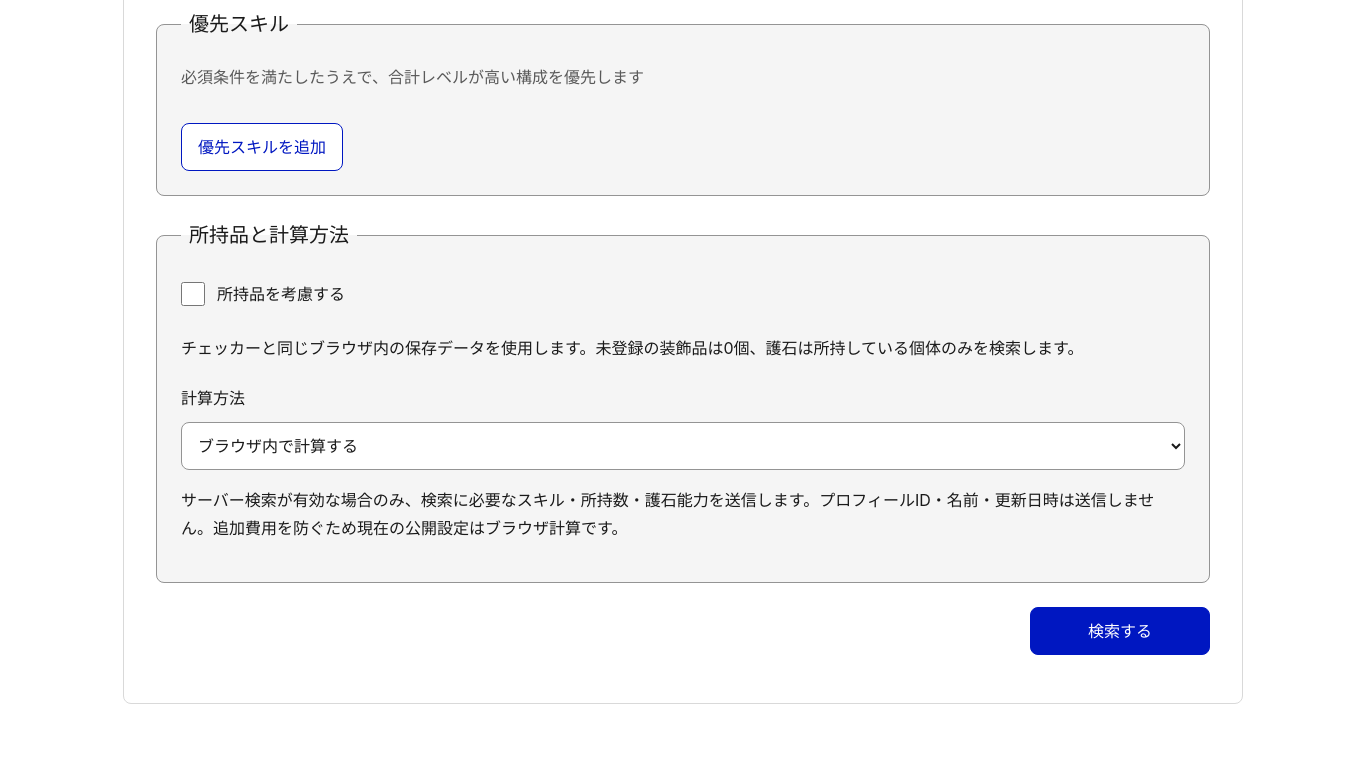
Test: search states and results › clears previous results and reports a search error
(page scrolled)
Click the button "検索する" at (1120, 631), box [1030,607,1210,655]
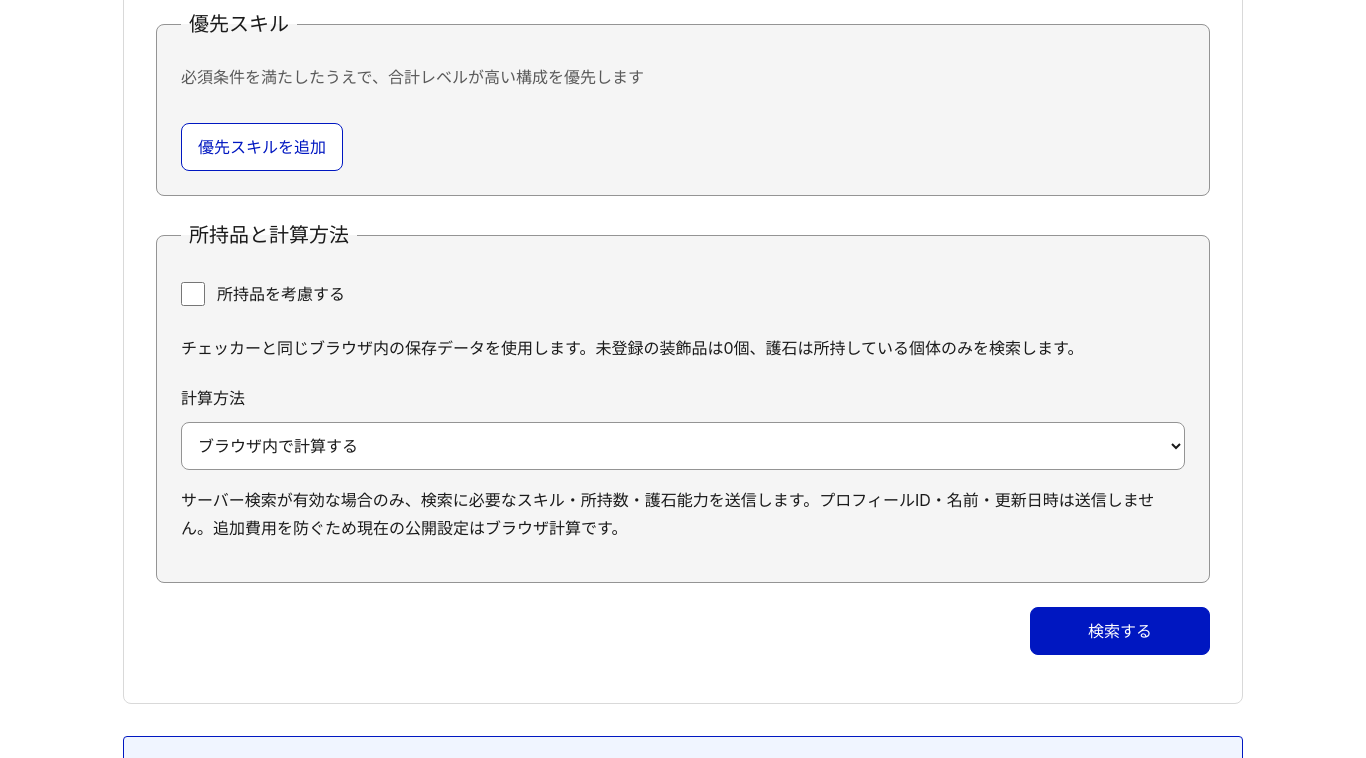
Click the button "検索する" at (1120, 631), box [1030,607,1210,655]
(page scrolled)
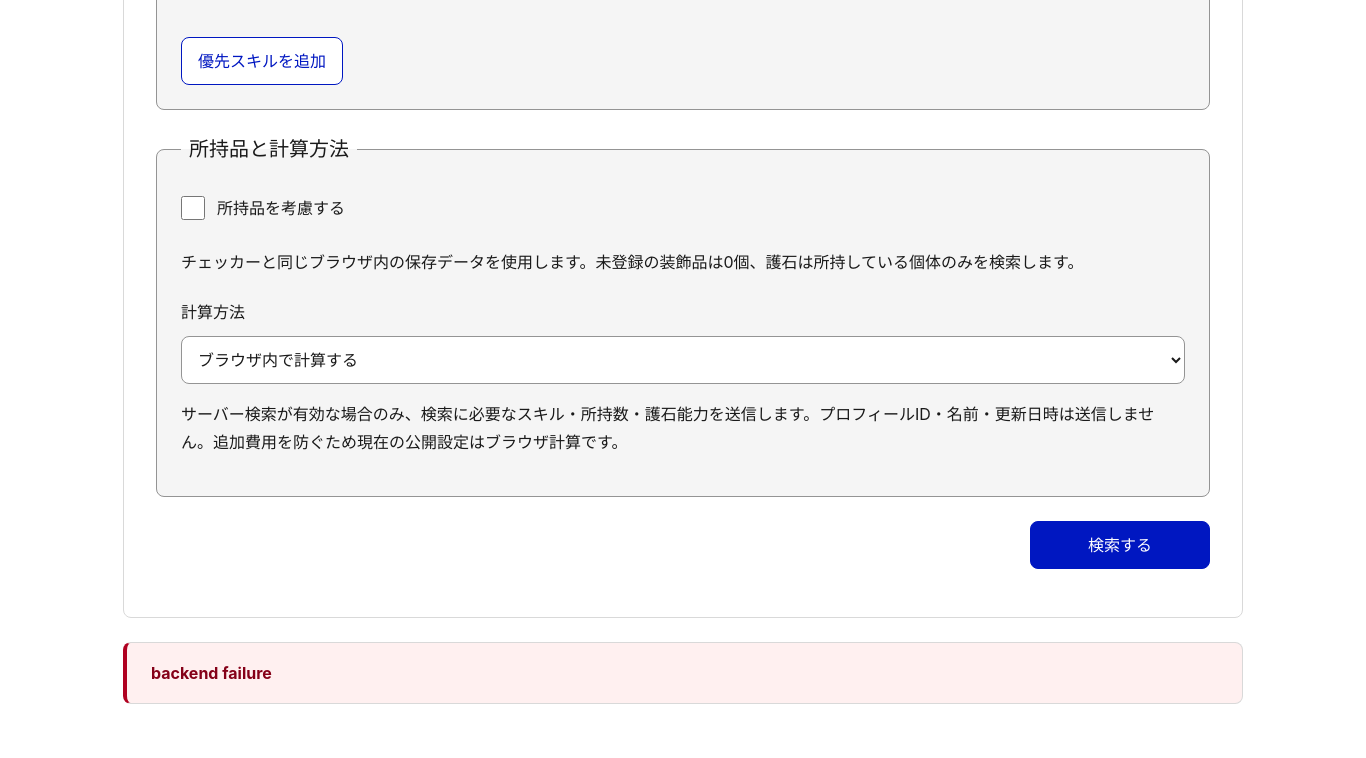
Expected: the message reads "backend failure", [151,663,272,683]
